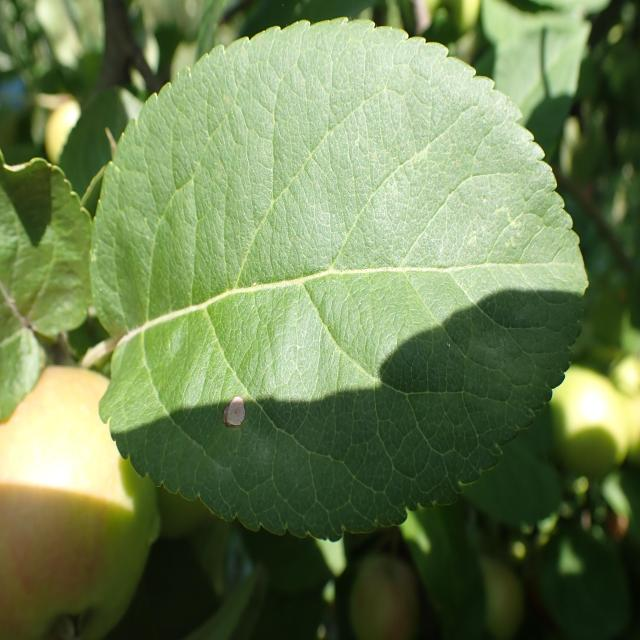frog-eye-leaf-spot: (88, 17, 589, 543)
